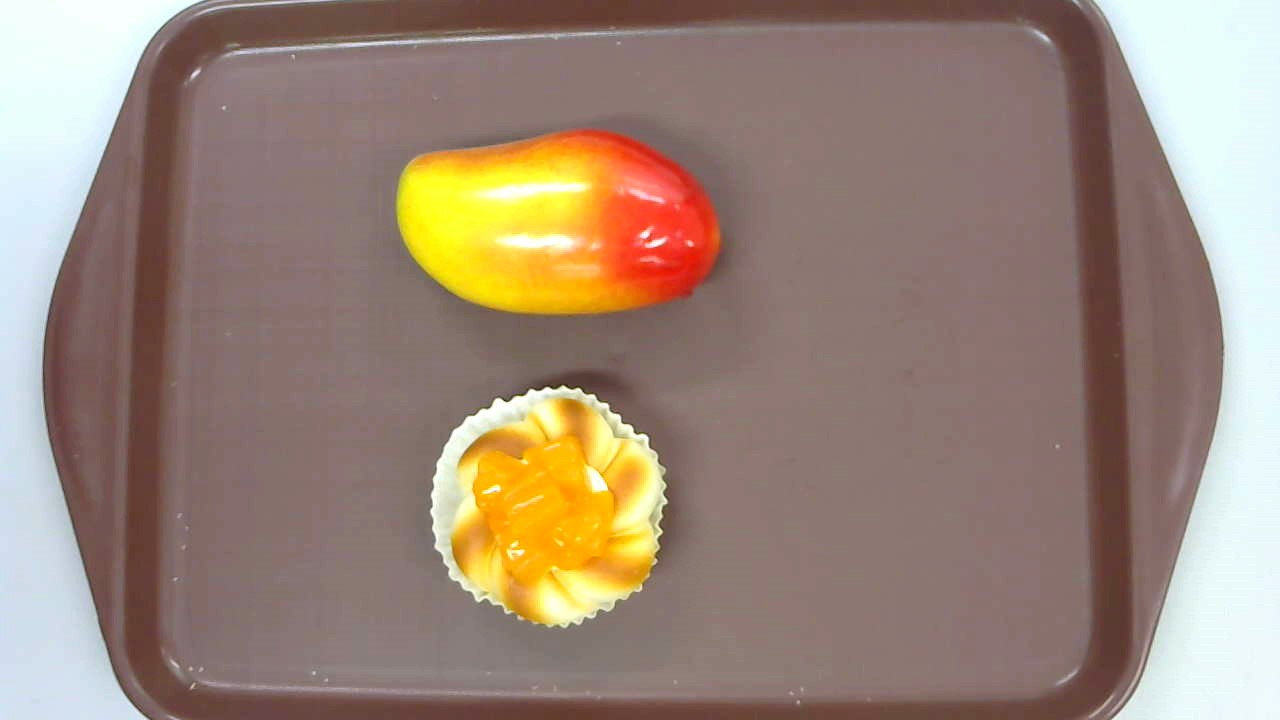mango tart: (429, 384, 670, 628)
red mango: (395, 127, 722, 315)
